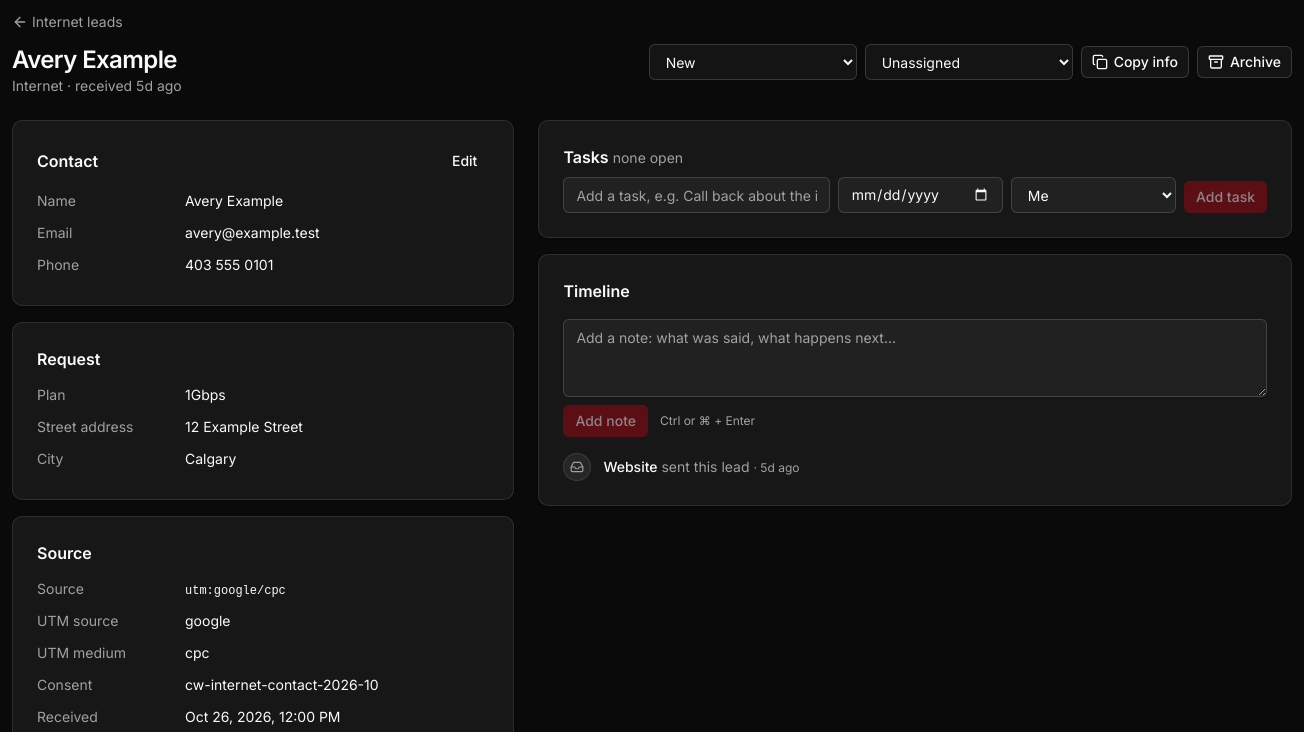
Scenario: LeadRecord › changes the stage and shows the new timeline entry
The width and height of the screenshot is (1304, 732).
Select "Qualified" in the 1st dropdown named "Stage" at point(753, 62), box x1=649 y1=44 x2=857 y2=80
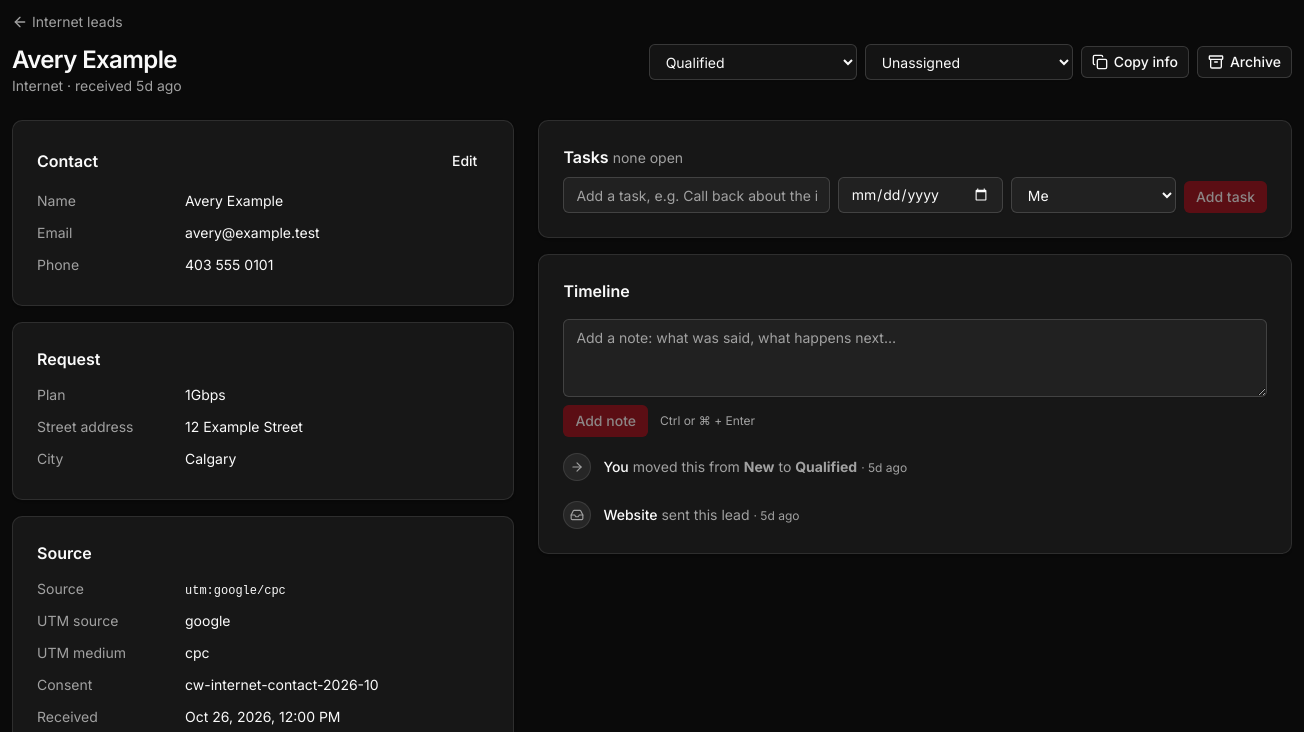
expect the text "Qualified" is shown: met, box x1=795 y1=458 x2=857 y2=475
expect the text "You" is shown: met, box x1=603 y1=458 x2=629 y2=475
